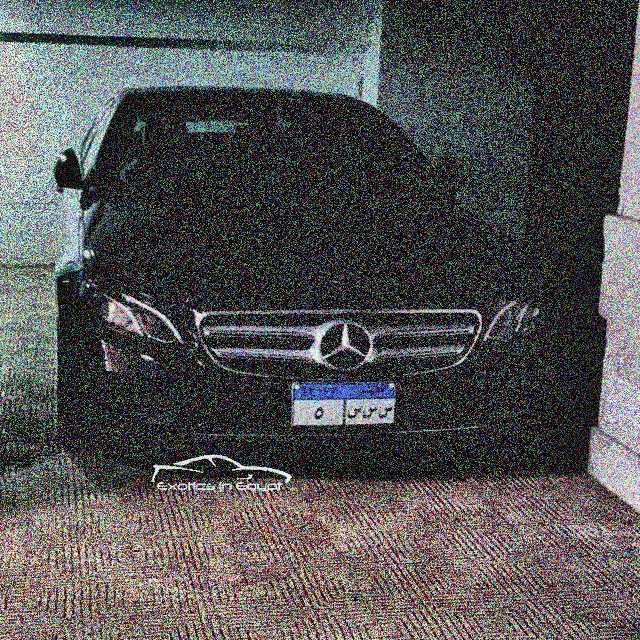License Plate: (288, 376, 399, 429)
